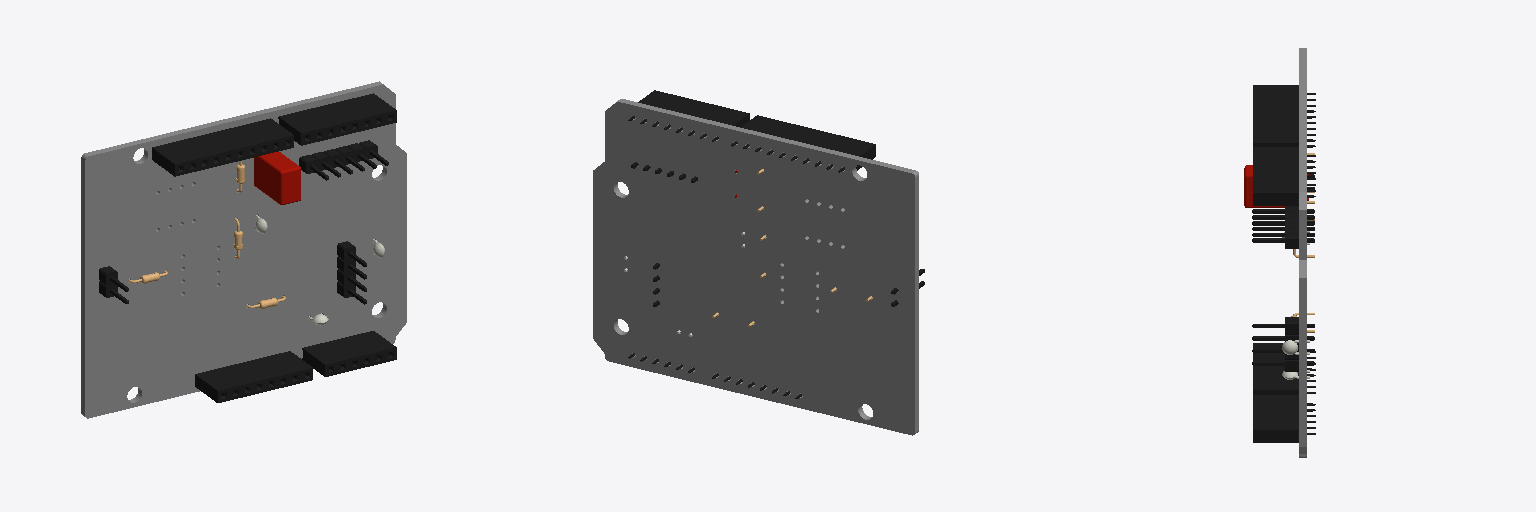
Rendered from PCB-Blender.obj.
3 views of the same model, side by side, from view 1: azimuth 30°, elevation 25°; view 2: azimuth 150°, elevation 25°; view 3: azimuth 270°, elevation 25° (orthographic).
Parts seen in each view (by area): view 1: Graphite_PCB, PinSocket_1x10_P2.54mm_Vertical, PinSocket_1x08_P2.54mm_Vertical, PinSocket_1x08_P2.54mm_Vertical001, PinSocket_1x06_P2.54mm_Vertical, C_Rect_L7.0mm_W4.5mm_P5.00mm, PinHeader_1x06_P2.54mm_Vertical, PinHeader_1x04_P2.54mm_Vertical, PinHeader_1x02_P2.54mm_Vertical; view 2: Graphite_PCB, PinSocket_1x10_P2.54mm_Vertical, PinSocket_1x08_P2.54mm_Vertical001; view 3: Graphite_PCB, PinSocket_1x10_P2.54mm_Vertical, PinSocket_1x08_P2.54mm_Vertical001, PinSocket_1x06_P2.54mm_Vertical, PinHeader_1x06_P2.54mm_Vertical, PinSocket_1x08_P2.54mm_Vertical, PinHeader_1x04_P2.54mm_Vertical.
Boxes of the visible parts, x1,y1,x2,y2 form: Graphite_PCB: [81, 81, 406, 418]; PinSocket_1x10_P2.54mm_Vertical: [152, 118, 293, 176]; PinSocket_1x08_P2.54mm_Vertical: [195, 351, 312, 402]; PinSocket_1x08_P2.54mm_Vertical001: [278, 93, 396, 145]; PinSocket_1x06_P2.54mm_Vertical: [302, 331, 396, 376]; C_Rect_L7.0mm_W4.5mm_P5.00mm: [254, 152, 300, 204]; PinHeader_1x06_P2.54mm_Vertical: [299, 140, 388, 180]; PinHeader_1x04_P2.54mm_Vertical: [337, 241, 366, 304]; PinHeader_1x02_P2.54mm_Vertical: [99, 266, 128, 303]; Graphite_PCB: [593, 99, 918, 435]; PinSocket_1x10_P2.54mm_Vertical: [731, 115, 875, 172]; PinSocket_1x08_P2.54mm_Vertical001: [628, 90, 749, 141]; Graphite_PCB: [1299, 48, 1306, 457]; PinSocket_1x10_P2.54mm_Vertical: [1253, 85, 1315, 147]; PinSocket_1x08_P2.54mm_Vertical001: [1253, 147, 1315, 205]; PinSocket_1x06_P2.54mm_Vertical: [1253, 395, 1315, 442]; PinHeader_1x06_P2.54mm_Vertical: [1252, 206, 1314, 248]; PinSocket_1x08_P2.54mm_Vertical: [1253, 343, 1315, 394]; PinHeader_1x04_P2.54mm_Vertical: [1252, 317, 1314, 371].
Bounding box in the file's own units: 68.58 × 53.34 × 13.1.